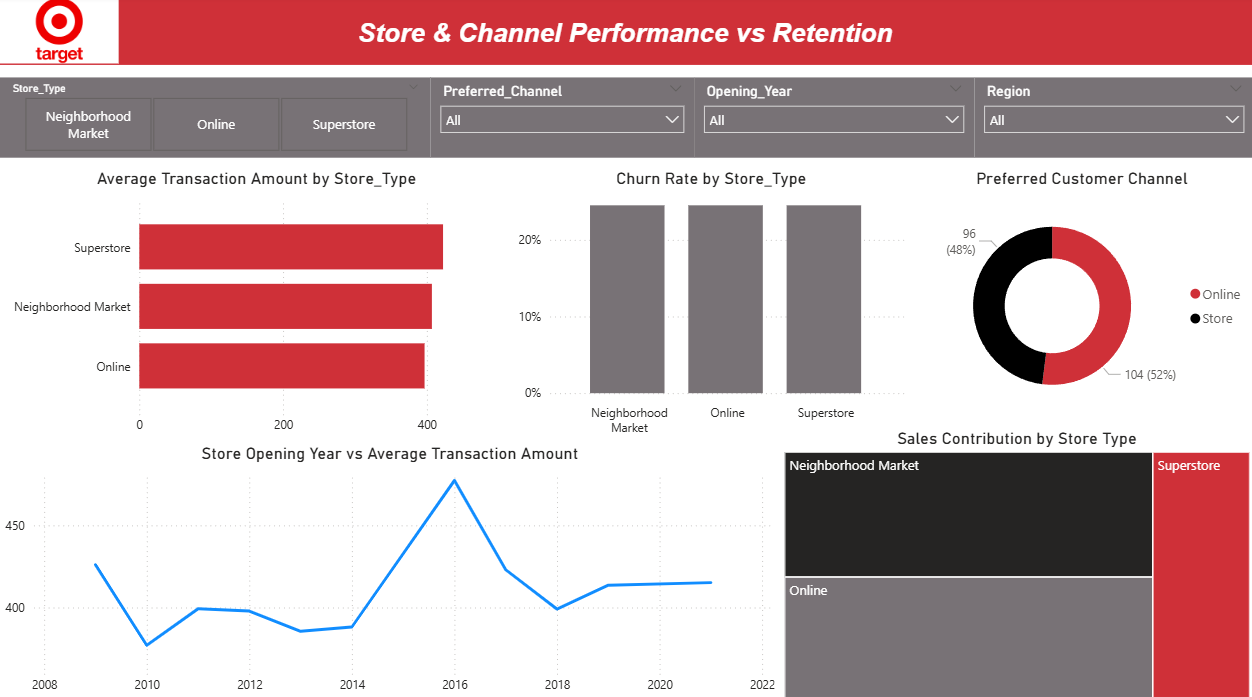

What the dashboard file says about the page in this screenshot:
{"tool":"powerbi","page":{"name":"Store and Channel","canvas":[1280,720],"ordinal":3},"visuals":[{"type":"clusteredBarChart","fields":{"Category":["Store_Locations.Store_Type"],"Y":["Customer_Transactions.Average Transaction Amount"]},"box":[0,175.9,523.6,280.1],"z":0},{"type":"clusteredColumnChart","fields":{"Category":["Store_Locations.Store_Type"],"Y":["Churn_Labelled_Customers.Churn Rate"]},"box":[523.6,175.9,403.9,280.1],"z":1000},{"type":"lineChart","title":"Store Opening Year vs Average Transaction Amount","fields":{"Category":["Store_Locations.Opening_Year"],"Y":["Customer_Transactions.Average Transaction Amount"]},"box":[0,456,795.2,264.6],"z":2000},{"type":"donutChart","title":"Preferred Customer Channel","fields":{"Category":["Customer_Demographics.Preferred_Channel"],"Y":["CountNonNull(Customer_Demographics.Customer_ID)"]},"box":[927.5,175.9,351.9,260.4],"z":3000},{"type":"treemap","title":"Sales Contribution by Store Type","fields":{"Group":["Store_Locations.Store_Type"],"Values":["Sum(Customer_Transactions.Amount)"]},"box":[795.2,440.5,484.1,280.1],"z":4000},{"type":"slicer","fields":{"Values":["Customer_Demographics.Region"]},"box":[993.6,83,285.7,81.6],"z":5000},{"type":"slicer","fields":{"Values":["Store_Locations.Opening_Year"]},"box":[707.9,83,285.7,81.6],"z":6000},{"type":"slicer","fields":{"Values":["Store_Locations.Store_Type"]},"box":[0,83,439.1,81.6],"z":7000},{"type":"slicer","fields":{"Values":["Customer_Demographics.Preferred_Channel"]},"box":[439.1,83,268.8,81.6],"z":8000},{"type":"textbox","box":[0,0,1279.3,70.4],"z":9000},{"type":"image","box":[0,0,121,70.4],"z":10000}]}

Visuals, with their boxes in screenshot pixels (x1, y1, x2, y2), scaled from the page's 1280x720 canvas onto the 1252x697 screenshot:
clusteredBarChart - Store_Locations.Store_Type x Customer_Transactions.Average Transaction Amount: 0/170/512/441
clusteredColumnChart - Store_Locations.Store_Type x Churn_Labelled_Customers.Churn Rate: 512/170/907/441
"Store Opening Year vs Average Transaction Amount" lineChart: 0/441/778/696
"Preferred Customer Channel" donutChart: 907/170/1251/422
"Sales Contribution by Store Type" treemap: 778/426/1251/696
slicer - Customer_Demographics.Region: 972/80/1251/159
slicer - Store_Locations.Opening_Year: 692/80/972/159
slicer - Store_Locations.Store_Type: 0/80/429/159
slicer - Customer_Demographics.Preferred_Channel: 429/80/692/159
textbox: 0/0/1251/68
image: 0/0/118/68
